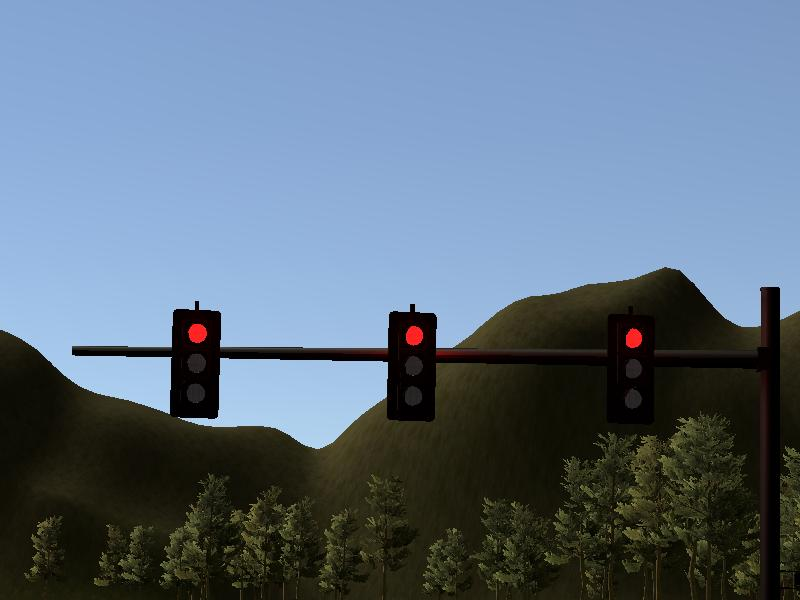red: (606, 311, 656, 424), (388, 309, 437, 423), (171, 307, 220, 419)
